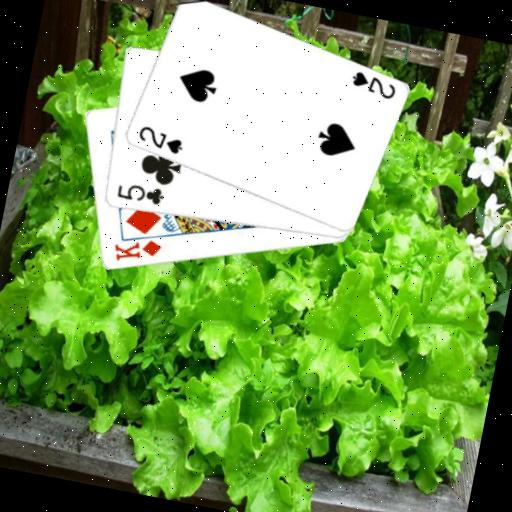2S: (345, 67, 400, 103), (133, 122, 187, 158)
5C: (113, 178, 167, 209)
KD: (108, 230, 165, 271)
